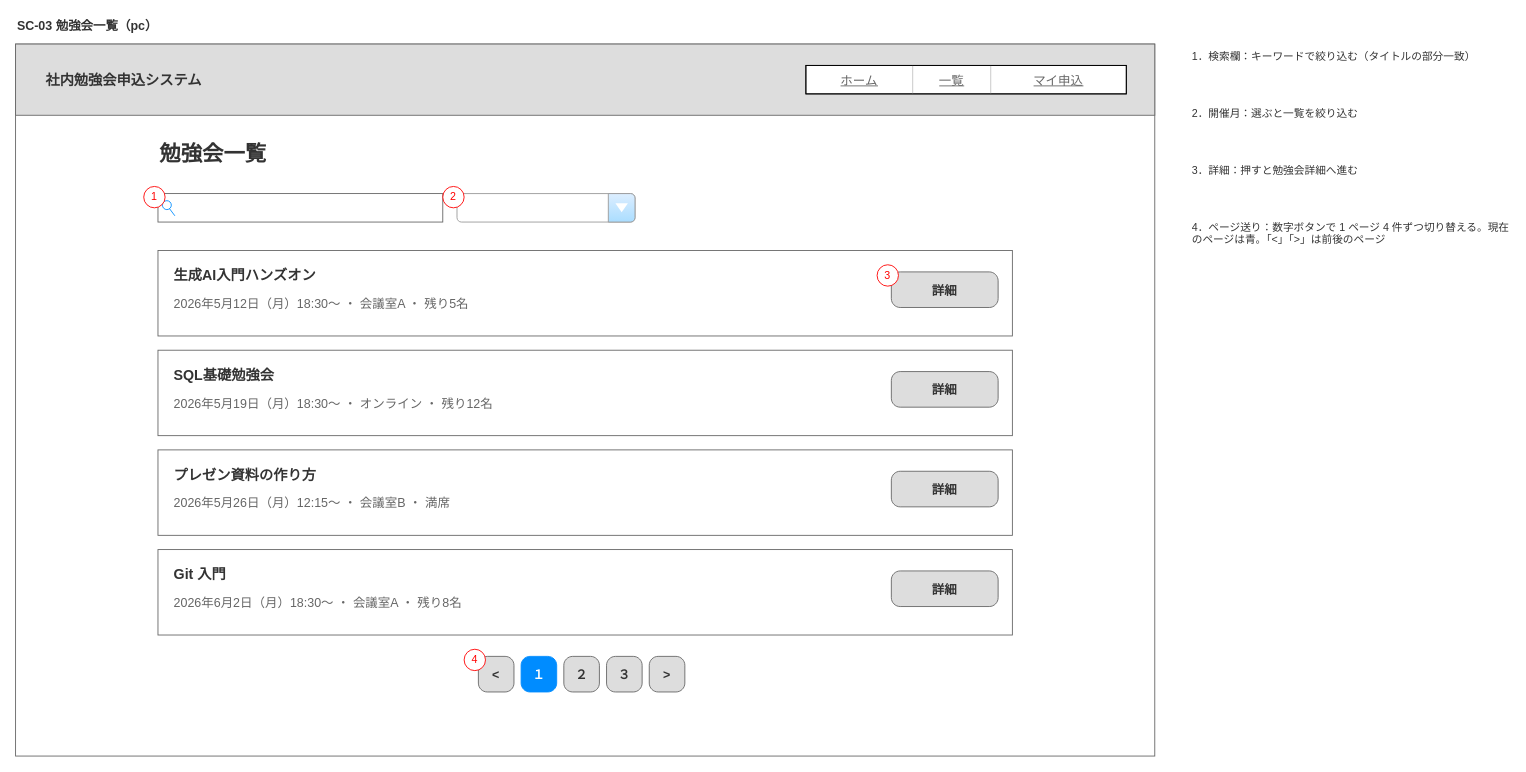
Image size: 1526x772. Some labels were removed from this diagram. Each missing label, with the box of its shape:
すべての開催月: (456, 193, 635, 222)
キーワード: (157, 193, 443, 222)
